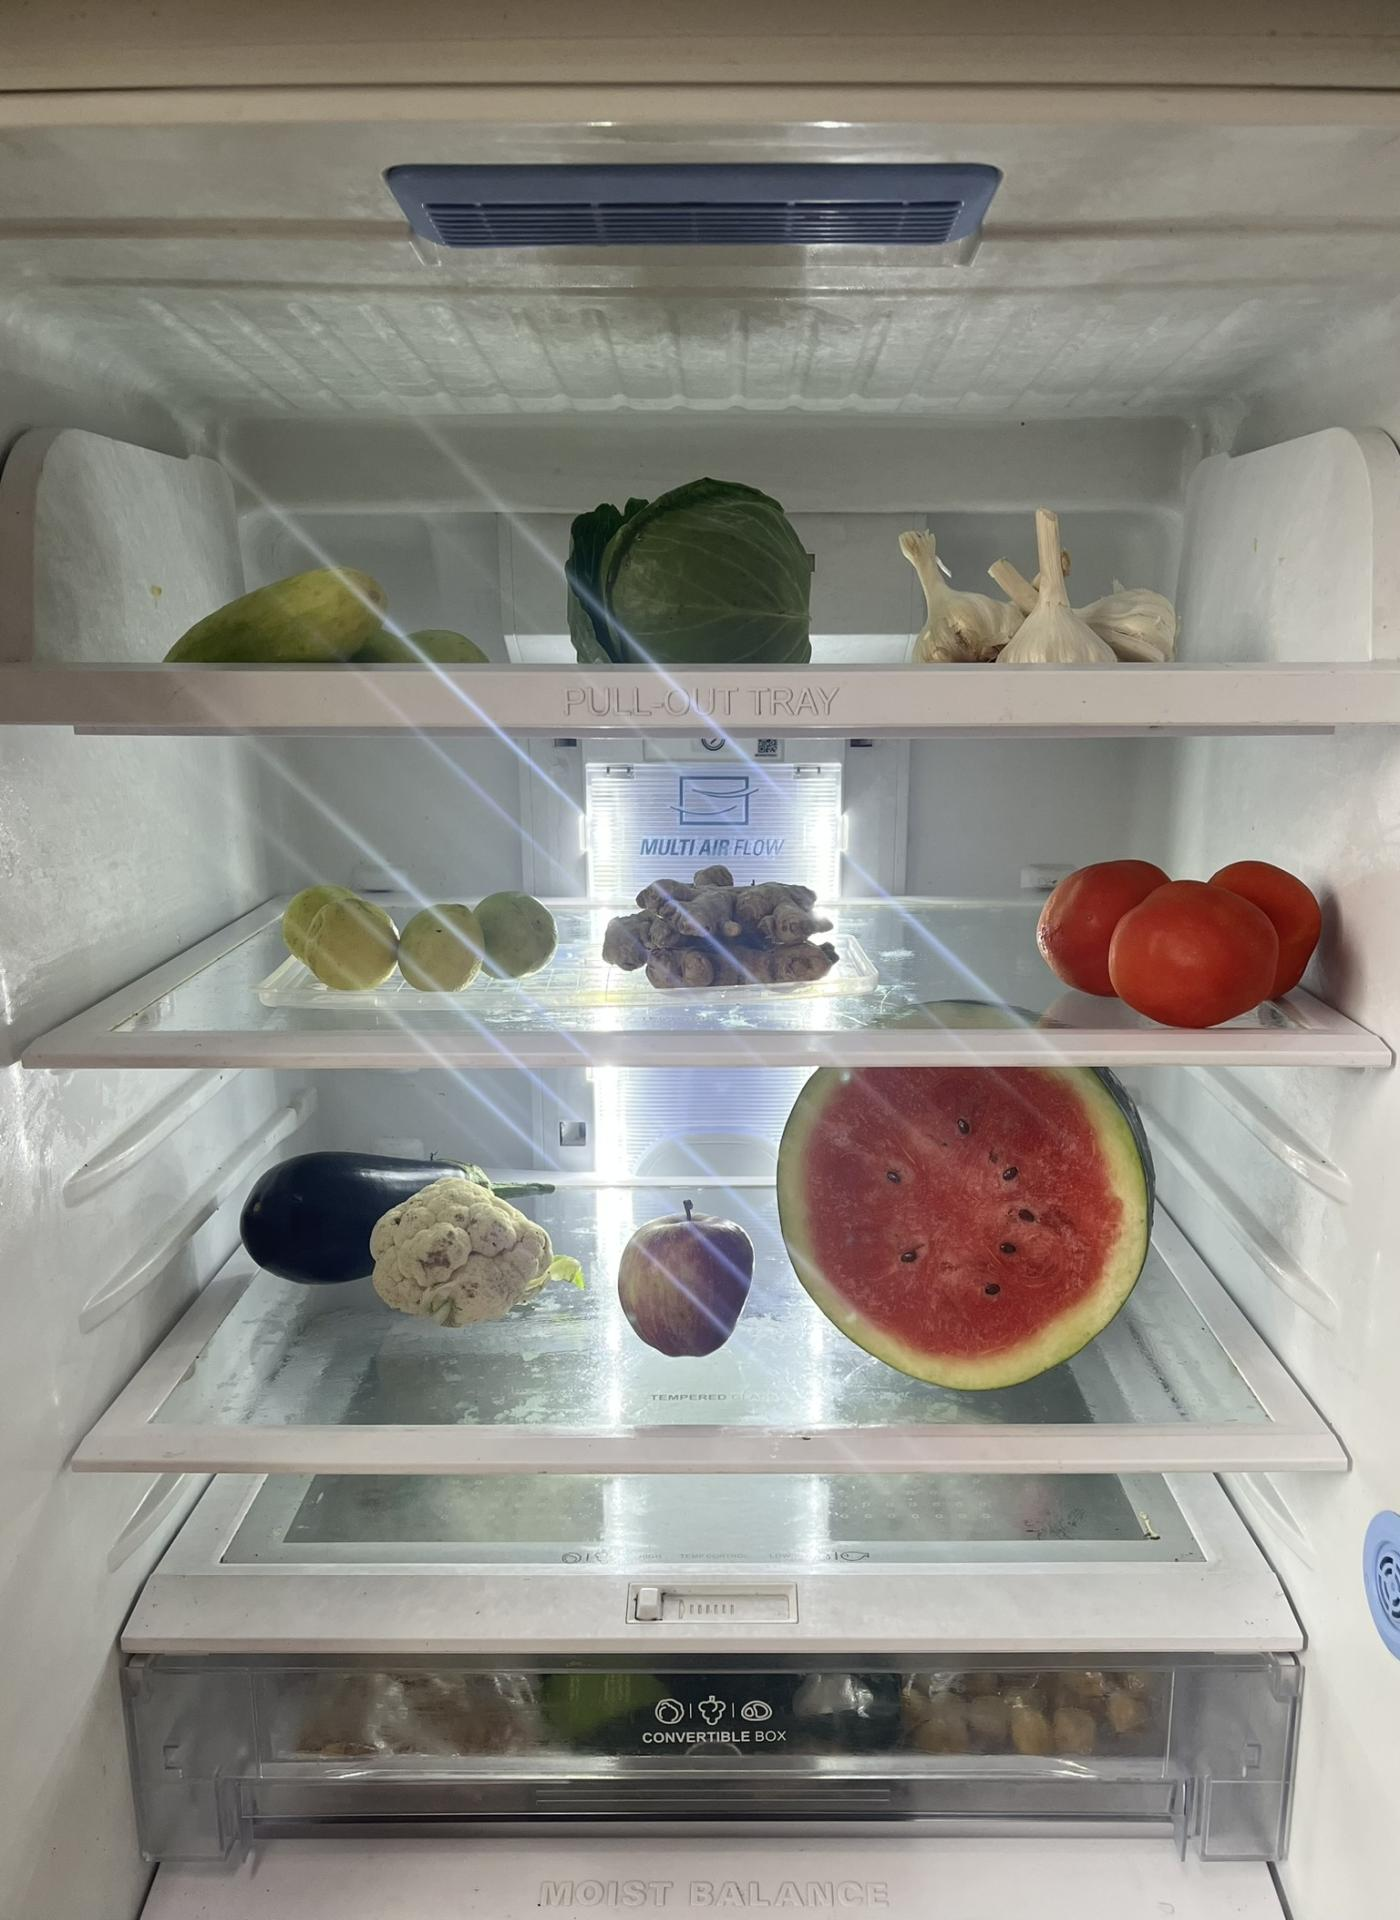apple: (620, 1203, 759, 1362)
cabbage: (565, 481, 826, 662)
cauliflower: (362, 1185, 577, 1337)
cucumber: (143, 562, 501, 668)
garlic: (893, 499, 1197, 669)
ginger: (604, 866, 835, 984)
lemon: (283, 894, 562, 997)
tomato: (1030, 850, 1346, 1032)
watermelon: (774, 1000, 1154, 1391)
